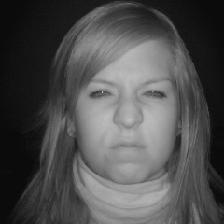sad: (43, 1, 218, 189)
